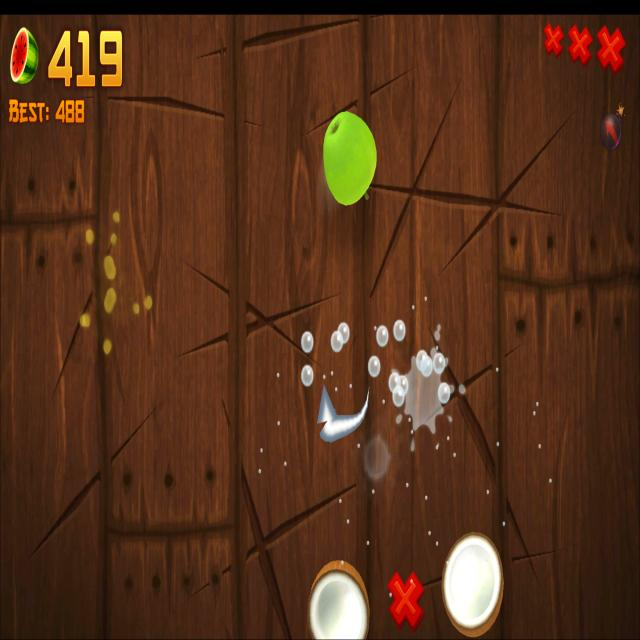fruit: (322, 110, 378, 206)
